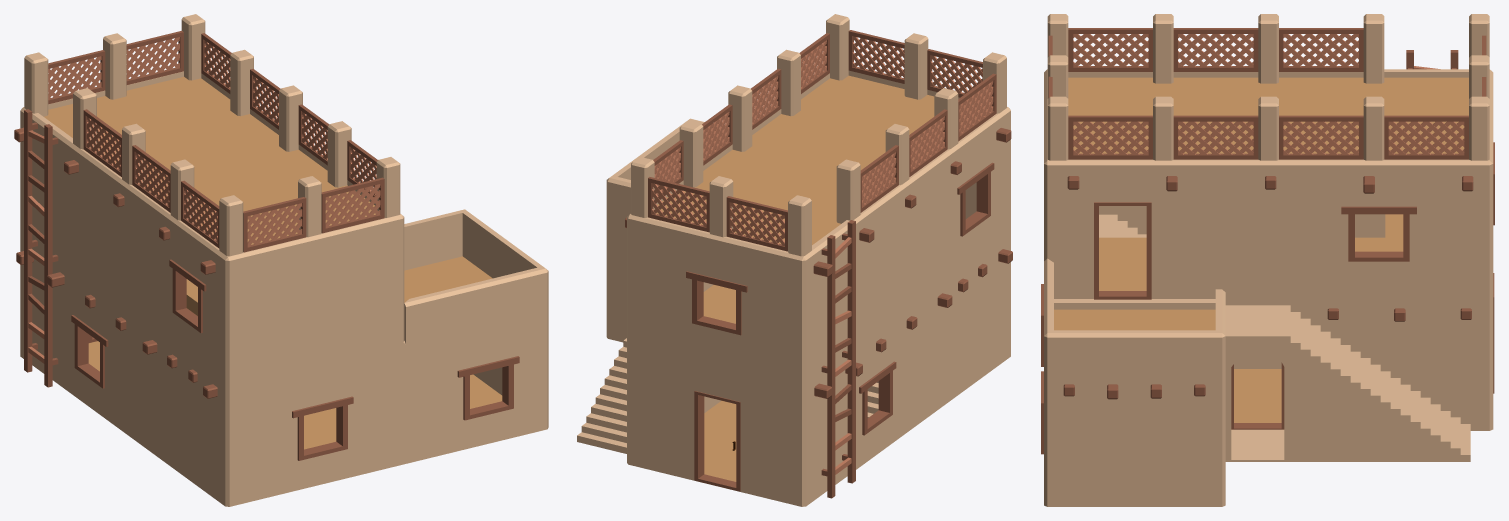
The model's file is Large Building Frame C.glb.
3 renders of one model, left to right at view 1: azimuth 30°, elevation 25°; view 2: azimuth 150°, elevation 25°; view 3: azimuth 270°, elevation 25°, orthographic. The views are drawn at different scales.
Parts seen in each view (by area): view 1: Large Building Frame C; view 2: Large Building Frame C; view 3: Large Building Frame C.
Boxes of the visible parts, x1,y1,x2,y2 form: Large Building Frame C: (14, 14, 548, 506); Large Building Frame C: (577, 14, 1012, 506); Large Building Frame C: (1041, 14, 1494, 506).
Size of the model in its own units: 953 by 789 by 999.
